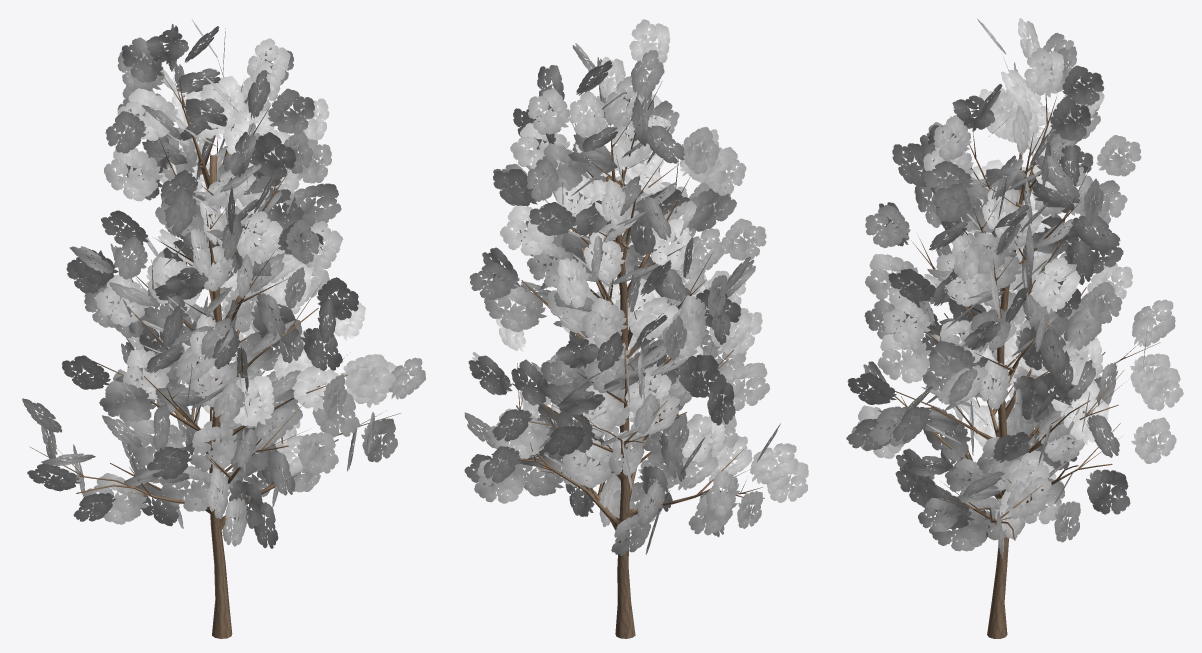
The model's file is RedMaple_LOD0_P3536_B2512_L1024_v02.fbx.
The picture shows the model from 3 angles, left to right: view 1: azimuth 30°, elevation 25°; view 2: azimuth 150°, elevation 25°; view 3: azimuth 270°, elevation 25°; orthographic projection.
Parts seen in each view (by area): view 1: red_maple_card_v01_1, sugar_maple_bark_v01_0; view 2: red_maple_card_v01_1, sugar_maple_bark_v01_0; view 3: red_maple_card_v01_1, sugar_maple_bark_v01_0.
Boxes of the visible parts, x1,y1,x2,y2 form: red_maple_card_v01_1: (22, 19, 425, 548); sugar_maple_bark_v01_0: (29, 60, 400, 638); red_maple_card_v01_1: (464, 19, 808, 555); sugar_maple_bark_v01_0: (491, 81, 764, 638); red_maple_card_v01_1: (846, 18, 1183, 560); sugar_maple_bark_v01_0: (878, 59, 1160, 638).
Bounding box in the file's own units: 1416 × 2374 × 1235.
